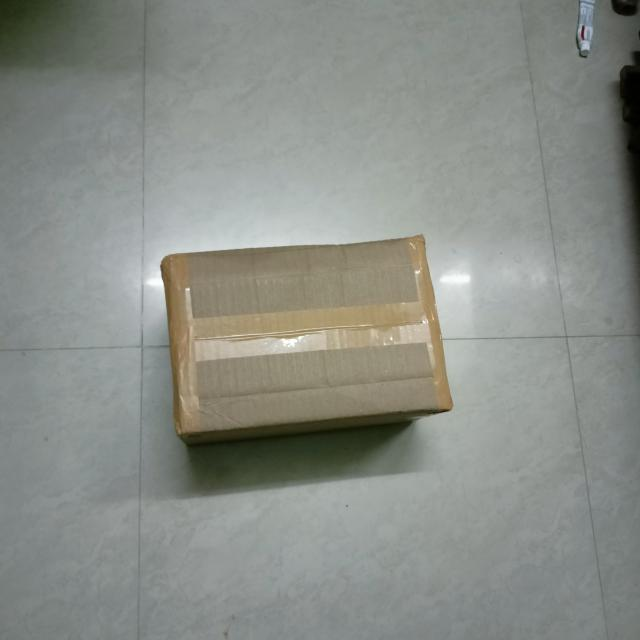box: (170, 239, 456, 430)
